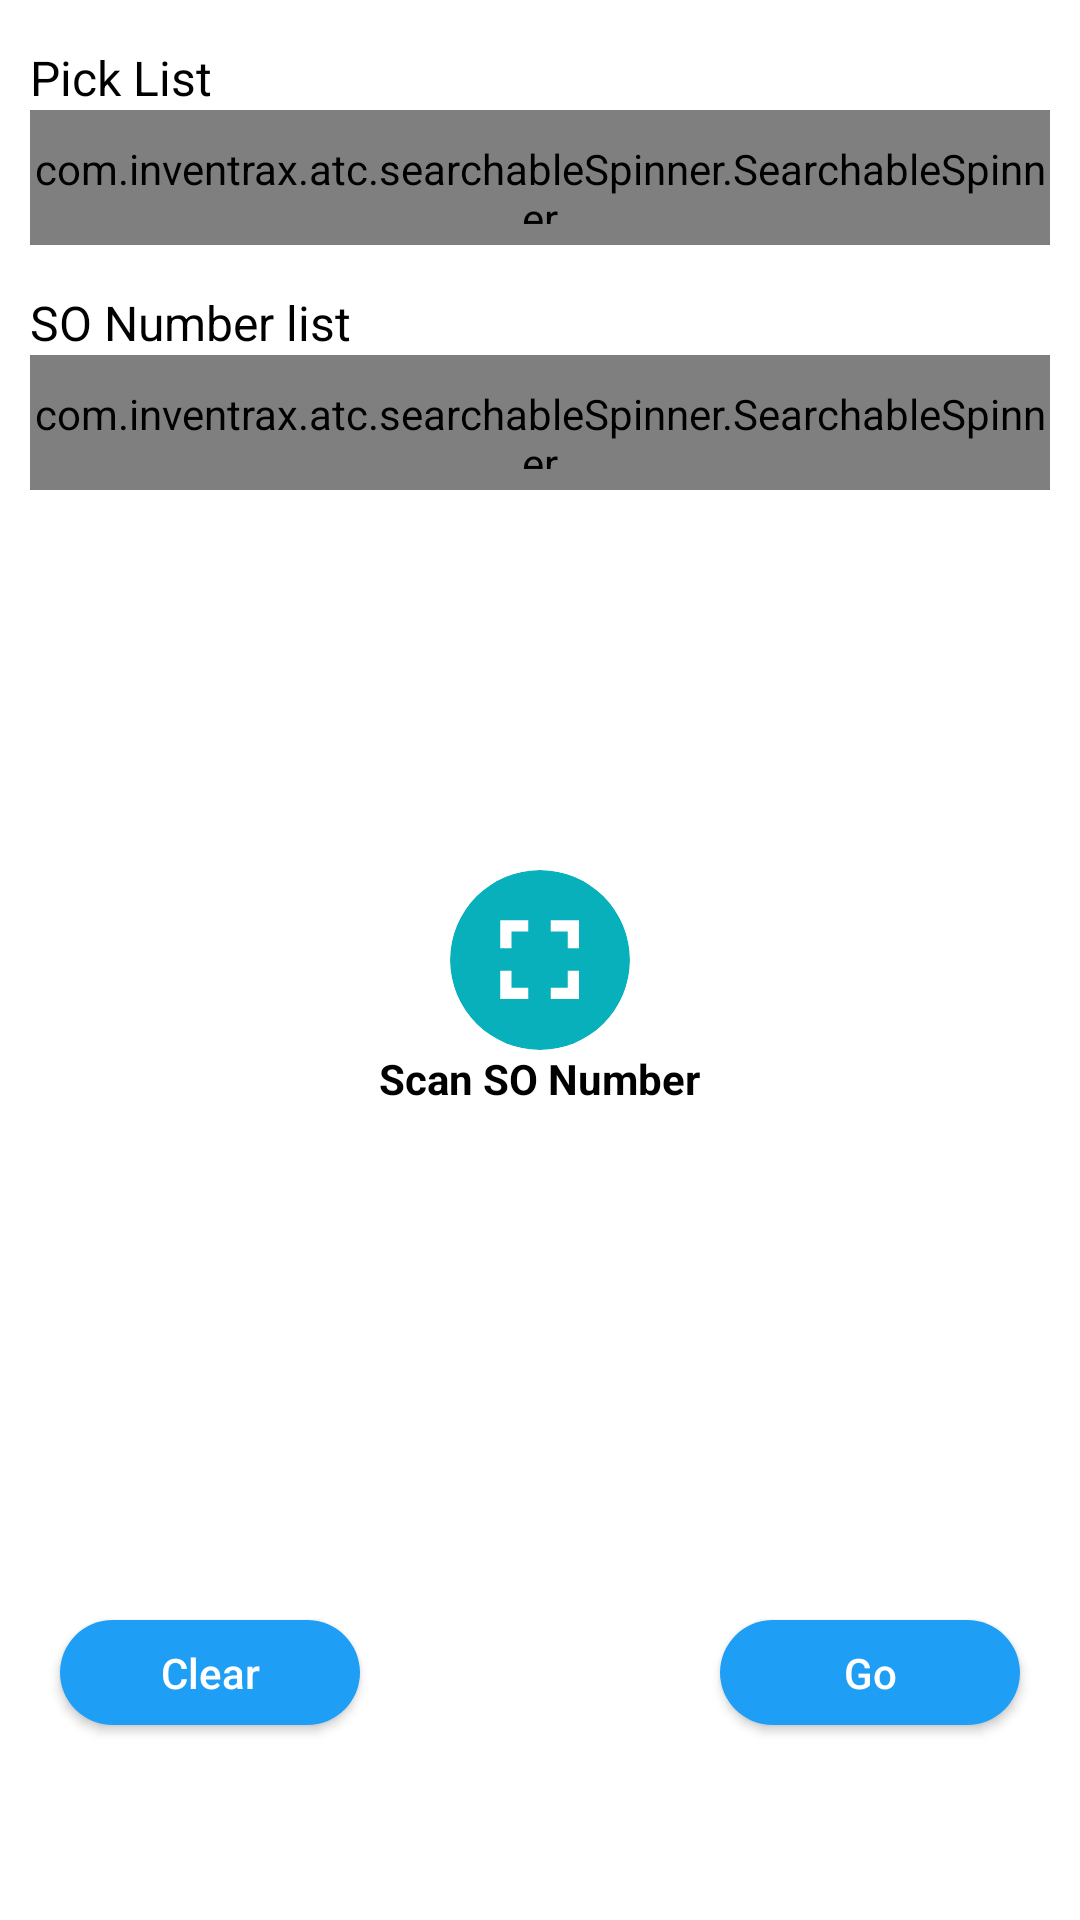

Locate icon controls on the screen. Image size 1080 × 1920, boxes as (x1, y1, x2, y2).
fullscreen: (500, 920, 579, 999)
